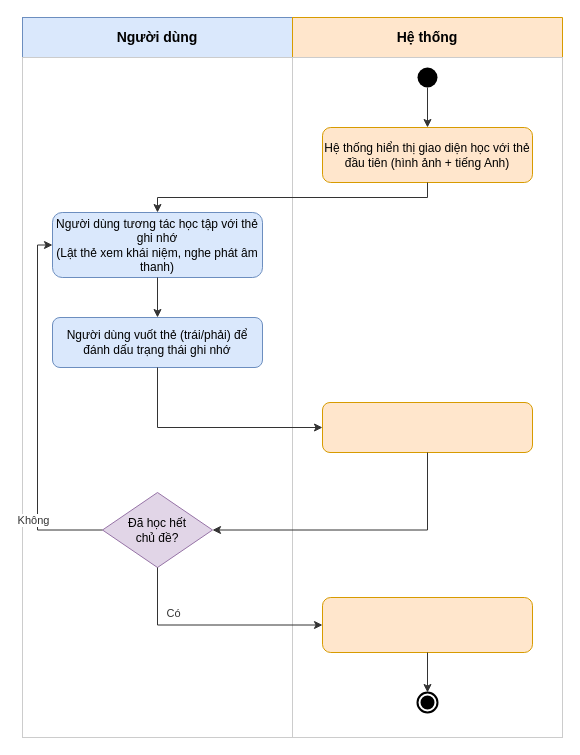
The diagram is 580 pixels wide and 755 high, and some of its shapes have lost their labels. The box of each missing label's shape, as (x1, y1, x2, y2) in pixels:
Hệ thống ghi nhận kết quả và hiển thị thẻ tiếp theo trong danh sách: (322, 402, 532, 452)
Hệ thống hiển thị báo cáo kết quả lượt học và lưu tiến trình học tập: (322, 596, 532, 652)
